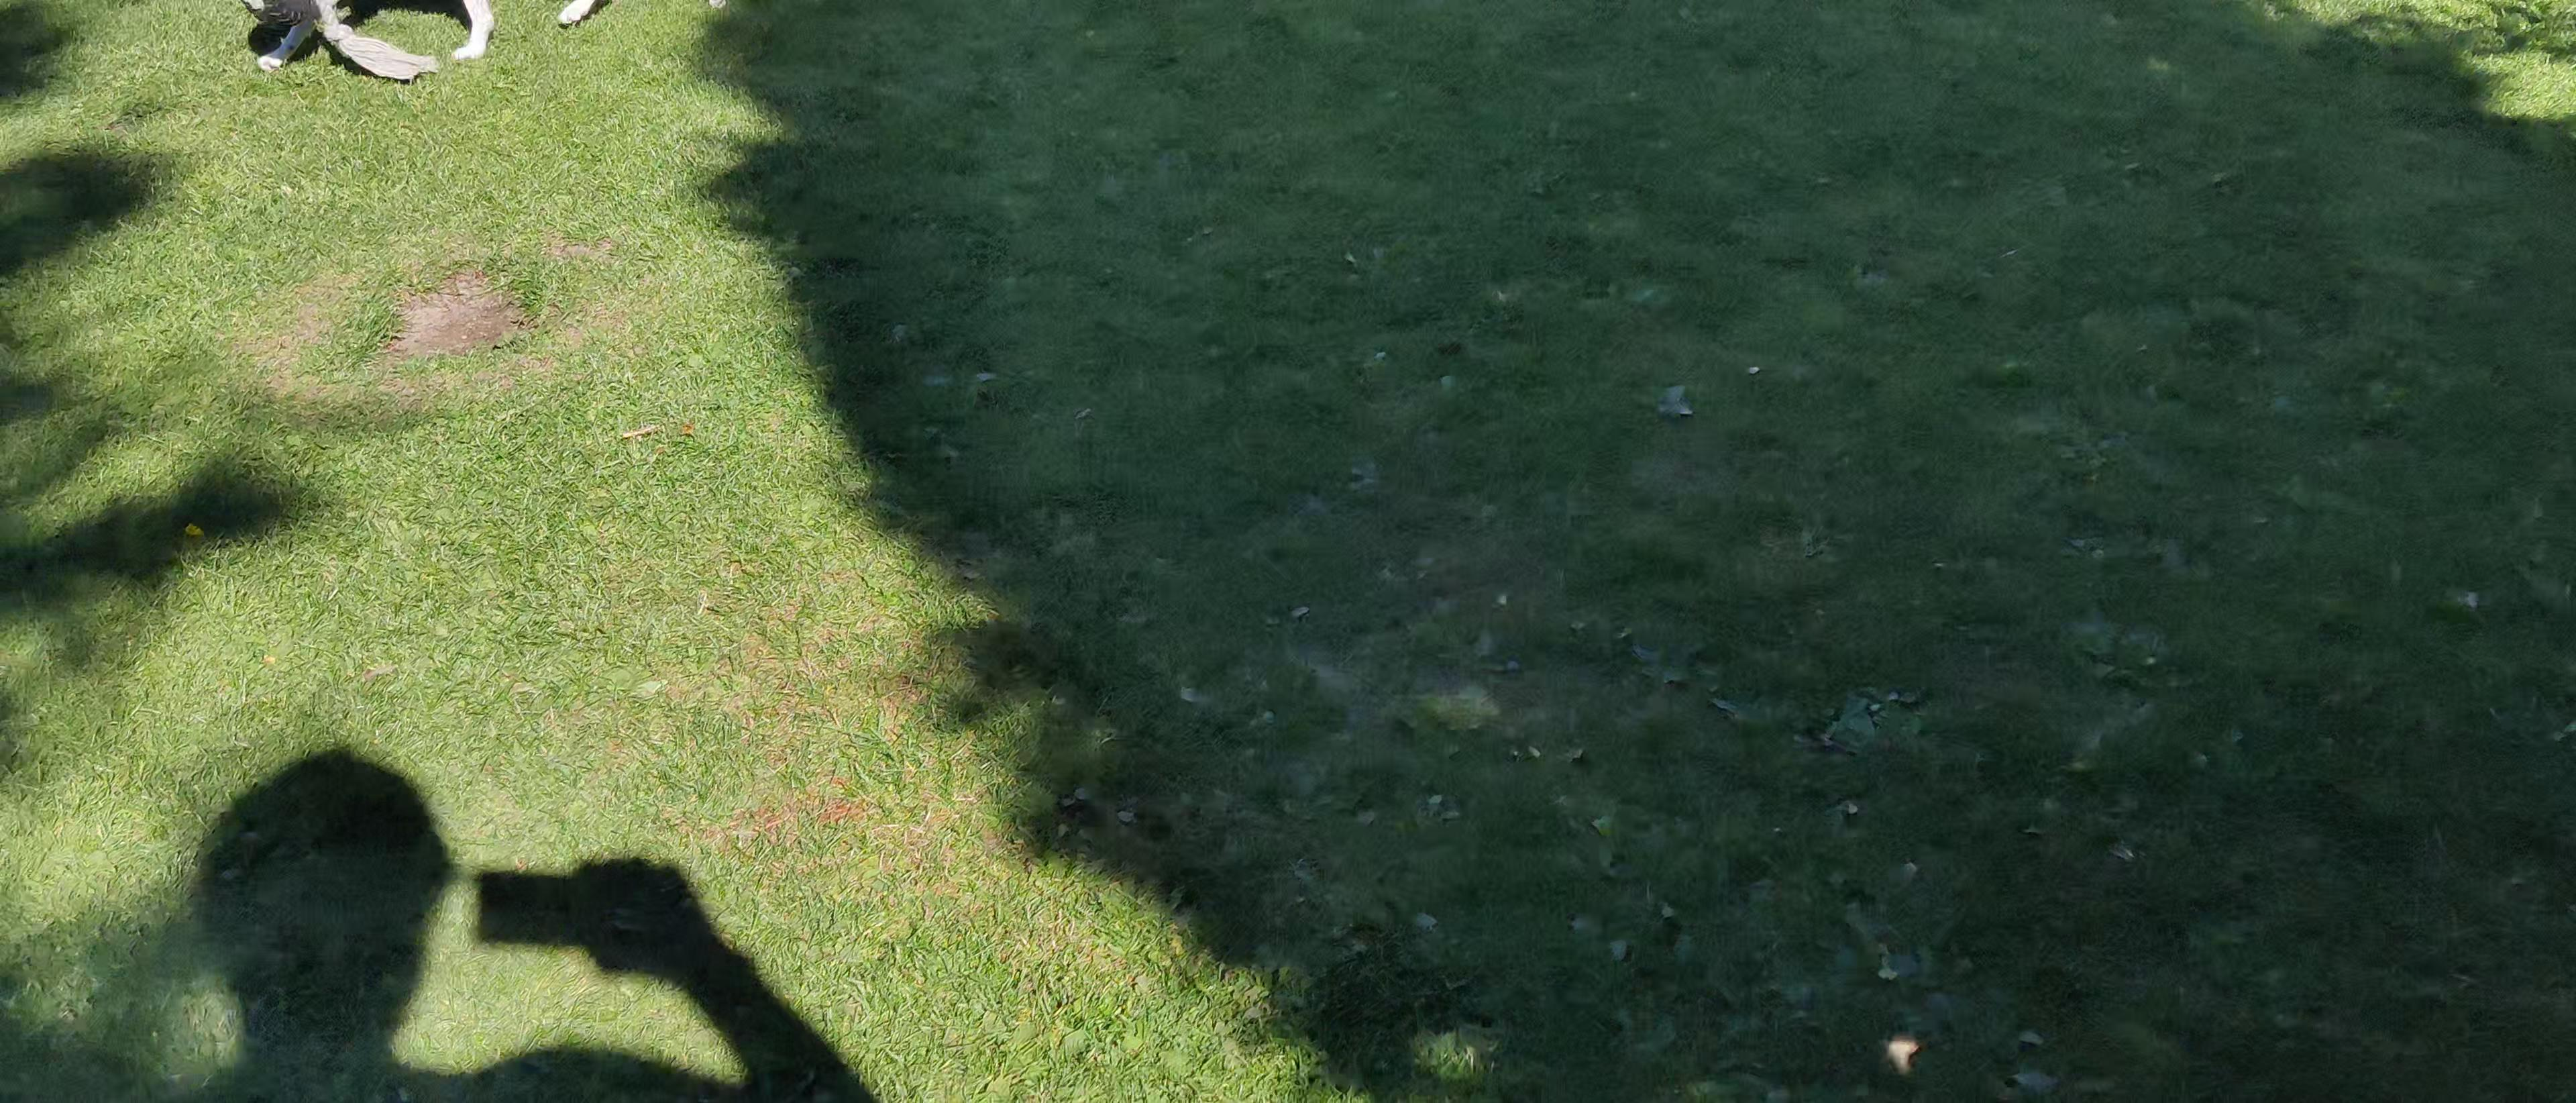Dog: (251, 0, 736, 77)
